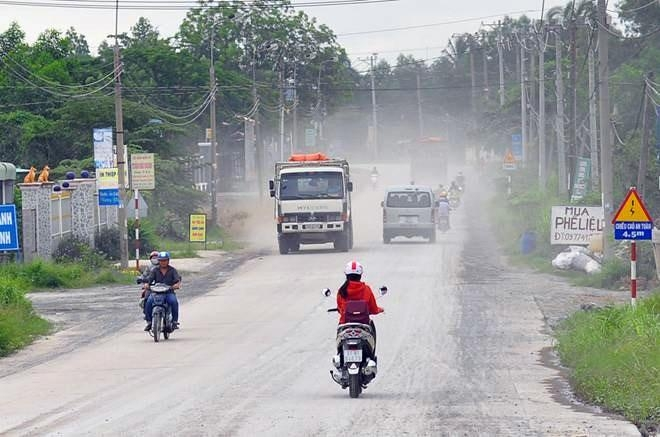car: (381, 185, 436, 244)
motorcycle: (331, 326, 378, 398), (144, 281, 180, 342)
truck: (272, 162, 350, 254)
